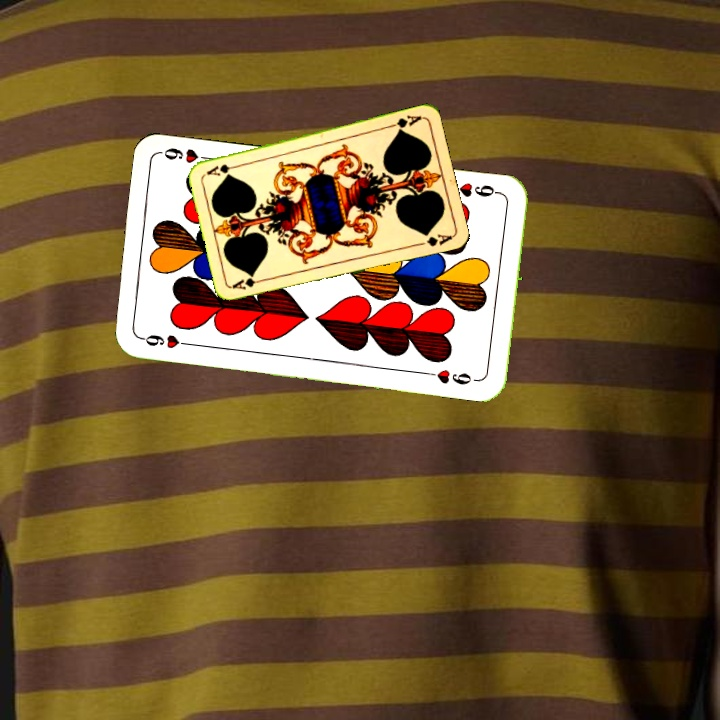GA: (384, 111, 424, 134), (229, 274, 269, 292)
H9: (447, 178, 506, 200), (137, 330, 196, 351)
